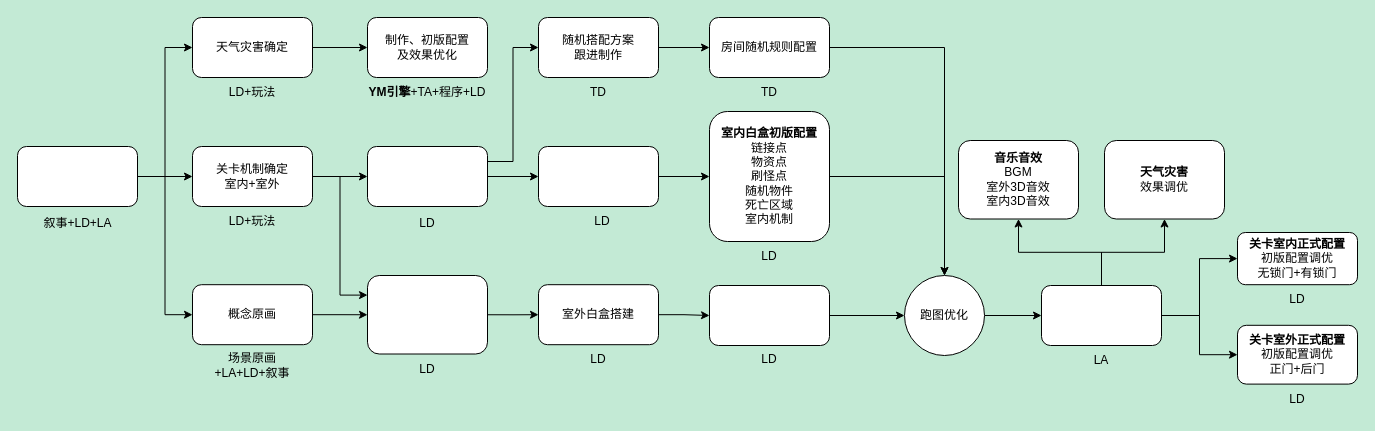
Some shapes in this 1375 by 431 pixel diagram are drawn without their labels. The centre of each missing label's shape, as x and y in pixels:
"关卡主题确定 室内+室外 定位+环境+特产" goes at pixel 77 176.
"室内关卡设计 体验目标 房型设计 搭配设计" goes at pixel 427 176.
"室内白盒搭建" goes at pixel 598 176.
"室外关卡设计 体验目标 随机落点 玩家动线 怪物分布" goes at pixel 427 314.
"室外白盒初版配置 随机落点 室外刷怪点 室外机制" goes at pixel 769 315.
"美术正式制作 室内+室外+门" goes at pixel 1101 315.
